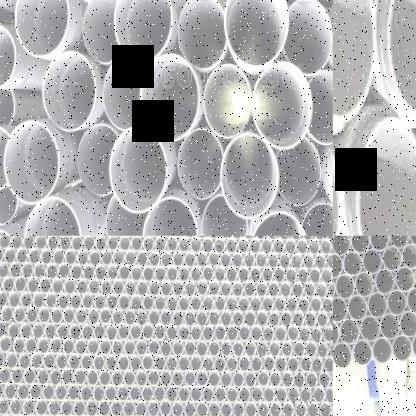pipe: (349, 116, 416, 236), (139, 53, 201, 142), (333, 0, 376, 127), (110, 125, 168, 214), (253, 62, 312, 149), (220, 133, 279, 219), (4, 120, 60, 204), (42, 50, 97, 132), (225, 0, 289, 66), (113, 0, 172, 63), (283, 0, 332, 75), (385, 0, 416, 116), (204, 64, 252, 138), (102, 57, 147, 131), (178, 128, 224, 199), (178, 0, 226, 68), (15, 0, 70, 59), (276, 137, 321, 208), (77, 123, 119, 197), (83, 0, 122, 64), (24, 196, 82, 236), (142, 196, 198, 236), (200, 194, 249, 236), (308, 69, 333, 145), (105, 195, 150, 236), (250, 210, 309, 236), (0, 24, 17, 90), (301, 201, 333, 235), (0, 185, 18, 226), (0, 83, 15, 131), (366, 292, 388, 319), (379, 313, 400, 341), (391, 336, 412, 363), (339, 318, 360, 345), (347, 295, 368, 322), (359, 316, 380, 342), (334, 274, 355, 300), (354, 272, 375, 298), (374, 269, 395, 295), (394, 267, 415, 293), (342, 251, 363, 277), (361, 249, 382, 275), (381, 246, 402, 272), (372, 338, 392, 365), (387, 290, 407, 317), (352, 340, 372, 366), (333, 342, 352, 369), (399, 311, 416, 338), (401, 243, 416, 270), (333, 297, 348, 323), (333, 236, 351, 256), (350, 236, 370, 254), (369, 235, 389, 252), (405, 287, 416, 314), (122, 368, 136, 388), (98, 368, 112, 388), (86, 368, 100, 388), (10, 366, 24, 386), (38, 305, 51, 326), (389, 236, 410, 249), (274, 385, 288, 404), (238, 385, 252, 404), (250, 385, 264, 404), (54, 383, 68, 402), (66, 383, 80, 402), (16, 382, 30, 401), (74, 368, 88, 387), (36, 367, 50, 386), (80, 353, 94, 372), (4, 351, 18, 370), (74, 338, 88, 357), (68, 322, 82, 341), (56, 322, 70, 341), (62, 307, 76, 326), (32, 291, 46, 310), (88, 249, 102, 268), (202, 384, 215, 404), (165, 384, 178, 404), (189, 384, 202, 404), (141, 384, 154, 404), (42, 382, 55, 402), (29, 382, 42, 402), (147, 368, 160, 388), (49, 367, 62, 387), (12, 336, 25, 356), (25, 336, 38, 356), (99, 307, 112, 327), (87, 307, 100, 327), (100, 278, 113, 298), (39, 276, 52, 296), (333, 253, 343, 279), (22, 398, 36, 416), (312, 386, 326, 404), (318, 370, 332, 388), (274, 356, 288, 374), (250, 356, 264, 374), (92, 354, 106, 372), (42, 352, 56, 370), (30, 352, 44, 370), (256, 340, 270, 358), (280, 340, 294, 358), (86, 338, 100, 356), (298, 326, 312, 344), (238, 324, 252, 342), (12, 306, 26, 324), (284, 266, 298, 284), (278, 252, 292, 270), (263, 385, 276, 404), (214, 385, 227, 404), (153, 384, 166, 403), (92, 384, 105, 403), (104, 384, 117, 403), (23, 367, 36, 386), (311, 356, 324, 375), (99, 338, 112, 357), (93, 323, 106, 342), (19, 321, 32, 340), (7, 321, 20, 340), (75, 307, 88, 326), (50, 307, 63, 326), (1, 305, 14, 324), (69, 292, 82, 311), (57, 292, 70, 311), (124, 249, 137, 268), (178, 384, 190, 404), (80, 383, 92, 403), (136, 368, 148, 388), (68, 352, 80, 372), (134, 399, 148, 416), (72, 399, 86, 416), (302, 253, 316, 270), (290, 253, 304, 270), (48, 398, 61, 416), (61, 398, 74, 416), (35, 398, 48, 416), (293, 372, 306, 390), (232, 370, 245, 388), (219, 370, 232, 388), (269, 370, 282, 388), (281, 370, 294, 388), (61, 368, 74, 386), (213, 356, 226, 374), (287, 356, 300, 374), (226, 356, 239, 374), (141, 354, 154, 372), (263, 354, 276, 372), (18, 352, 31, 370), (268, 340, 281, 358), (208, 340, 221, 358), (293, 340, 306, 358), (196, 340, 209, 358), (232, 340, 245, 358), (160, 340, 173, 358), (220, 340, 233, 358), (147, 338, 160, 356), (62, 338, 75, 356), (310, 326, 323, 344), (250, 324, 263, 342), (287, 324, 300, 342), (226, 324, 239, 342), (202, 324, 215, 342), (214, 324, 227, 342), (166, 324, 179, 342), (44, 322, 57, 340), (32, 322, 45, 340), (304, 310, 317, 328), (316, 310, 329, 328), (280, 310, 293, 328), (268, 310, 281, 328), (207, 309, 220, 327), (262, 295, 275, 313), (214, 294, 227, 312), (154, 294, 167, 312), (94, 293, 107, 311), (315, 281, 328, 299), (219, 280, 232, 298), (196, 279, 209, 297), (63, 278, 76, 296), (51, 277, 64, 295), (13, 276, 26, 294), (225, 266, 238, 284), (273, 266, 286, 284), (57, 262, 70, 280), (45, 262, 58, 280), (52, 248, 65, 266), (320, 238, 333, 256), (129, 384, 141, 403), (117, 384, 129, 403), (4, 382, 16, 401), (112, 338, 124, 357), (112, 308, 124, 327), (82, 292, 94, 311), (20, 290, 32, 309), (28, 247, 40, 266), (268, 400, 282, 416), (97, 400, 111, 416), (262, 326, 276, 342), (94, 264, 108, 280), (8, 262, 22, 278), (272, 238, 286, 254), (147, 399, 160, 416), (159, 399, 172, 416), (110, 399, 123, 416), (85, 399, 98, 416), (226, 386, 239, 403), (244, 371, 257, 388), (208, 371, 221, 388), (196, 370, 209, 387), (257, 370, 270, 387), (165, 355, 178, 372), (238, 355, 251, 372), (153, 354, 166, 371), (196, 310, 209, 327), (219, 310, 232, 327), (232, 310, 245, 327), (237, 296, 250, 313), (286, 296, 299, 313), (310, 296, 323, 313), (166, 295, 179, 312), (291, 281, 304, 298), (160, 280, 173, 297), (208, 280, 221, 297), (2, 277, 15, 294), (26, 277, 39, 294), (297, 267, 310, 284), (309, 266, 322, 283), (261, 266, 274, 283), (166, 265, 179, 282), (249, 265, 262, 282), (154, 265, 167, 282), (314, 253, 327, 270), (267, 252, 280, 269), (64, 248, 77, 265), (284, 238, 297, 255), (213, 237, 226, 254), (189, 237, 202, 254), (237, 237, 250, 254), (142, 235, 155, 252), (94, 235, 107, 252), (112, 368, 123, 388), (10, 398, 22, 416), (300, 386, 312, 404), (288, 386, 300, 404), (178, 354, 190, 372), (56, 352, 68, 370), (172, 340, 184, 358), (244, 340, 256, 358), (50, 337, 62, 355), (178, 324, 190, 342), (292, 310, 304, 328), (244, 310, 256, 328), (256, 310, 268, 328), (148, 309, 160, 327), (160, 309, 172, 327), (26, 306, 38, 324), (298, 296, 310, 314), (321, 296, 333, 314), (274, 295, 286, 313), (226, 295, 238, 313), (202, 294, 214, 312), (244, 280, 256, 298), (172, 280, 184, 298), (148, 279, 160, 297), (321, 266, 333, 284), (202, 264, 214, 282), (143, 264, 155, 282), (160, 250, 172, 268), (172, 250, 184, 268), (308, 238, 320, 256), (178, 236, 190, 254), (294, 401, 308, 416), (0, 366, 11, 385), (118, 354, 129, 373), (106, 323, 117, 342), (9, 290, 20, 309), (113, 248, 124, 267), (244, 400, 257, 416), (257, 400, 270, 416), (219, 400, 232, 416), (320, 400, 333, 416), (208, 400, 221, 416), (195, 400, 208, 416), (305, 342, 318, 358), (316, 342, 329, 358), (274, 326, 287, 342), (237, 266, 250, 282), (189, 266, 202, 282), (214, 266, 227, 282), (106, 264, 119, 280), (70, 264, 83, 280), (21, 262, 34, 278), (76, 250, 89, 266), (296, 238, 309, 254), (249, 238, 262, 254), (225, 238, 238, 254), (260, 238, 273, 254), (306, 371, 318, 388), (160, 370, 172, 387), (172, 370, 184, 387), (202, 355, 214, 372), (300, 355, 312, 372), (154, 324, 166, 341), (82, 324, 94, 341), (172, 310, 184, 327), (124, 309, 136, 326), (250, 296, 262, 313), (178, 295, 190, 312), (256, 281, 268, 298), (280, 281, 292, 298), (232, 281, 244, 298), (268, 281, 280, 298), (304, 281, 316, 298), (184, 280, 196, 297), (124, 279, 136, 296), (76, 278, 88, 295), (220, 251, 232, 268), (196, 251, 208, 268), (208, 250, 220, 267), (16, 247, 28, 264), (4, 247, 16, 264), (202, 237, 214, 254), (131, 235, 143, 252), (130, 354, 141, 372), (191, 354, 202, 372), (106, 354, 117, 372), (185, 340, 196, 358), (38, 337, 49, 355), (0, 335, 11, 353), (191, 324, 202, 342), (118, 322, 129, 340), (142, 322, 153, 340), (185, 310, 196, 328), (137, 309, 148, 327), (106, 293, 117, 311), (119, 293, 130, 311), (45, 292, 56, 310), (137, 279, 148, 297), (34, 262, 45, 280), (185, 250, 196, 268), (149, 250, 160, 268), (306, 401, 319, 416), (232, 400, 244, 416), (184, 400, 196, 416), (178, 266, 190, 282), (82, 264, 94, 280), (0, 397, 10, 416), (123, 399, 134, 416), (185, 370, 196, 387), (136, 339, 147, 356), (124, 339, 135, 356), (130, 324, 141, 341), (191, 295, 202, 312), (131, 294, 142, 311), (143, 294, 154, 311), (113, 279, 124, 296), (89, 279, 100, 296), (131, 264, 142, 281), (232, 251, 243, 268), (244, 251, 255, 268), (256, 251, 267, 268), (137, 250, 148, 267), (101, 249, 112, 266), (154, 235, 165, 252), (167, 235, 178, 252), (82, 236, 95, 250), (46, 236, 59, 250), (34, 236, 47, 250), (282, 401, 294, 416), (323, 356, 333, 374), (0, 262, 10, 280), (172, 400, 183, 416), (322, 326, 333, 342), (119, 264, 130, 280), (41, 248, 52, 264), (58, 236, 70, 250), (410, 332, 416, 360), (23, 235, 34, 250), (0, 235, 11, 250), (333, 320, 339, 347), (119, 236, 130, 250), (71, 236, 82, 250), (107, 236, 118, 250), (324, 386, 333, 403), (10, 236, 21, 249), (0, 290, 7, 308), (326, 252, 333, 269), (0, 321, 6, 339), (327, 310, 333, 328), (327, 280, 333, 298), (0, 350, 5, 369), (328, 340, 333, 358), (408, 235, 416, 246), (0, 381, 4, 400), (0, 246, 4, 264), (300, 236, 314, 240), (312, 236, 326, 240), (289, 236, 302, 240), (277, 236, 290, 240), (324, 236, 333, 241), (218, 236, 232, 239), (230, 236, 244, 239), (2, 413, 15, 416), (195, 236, 208, 239), (266, 236, 278, 239)
